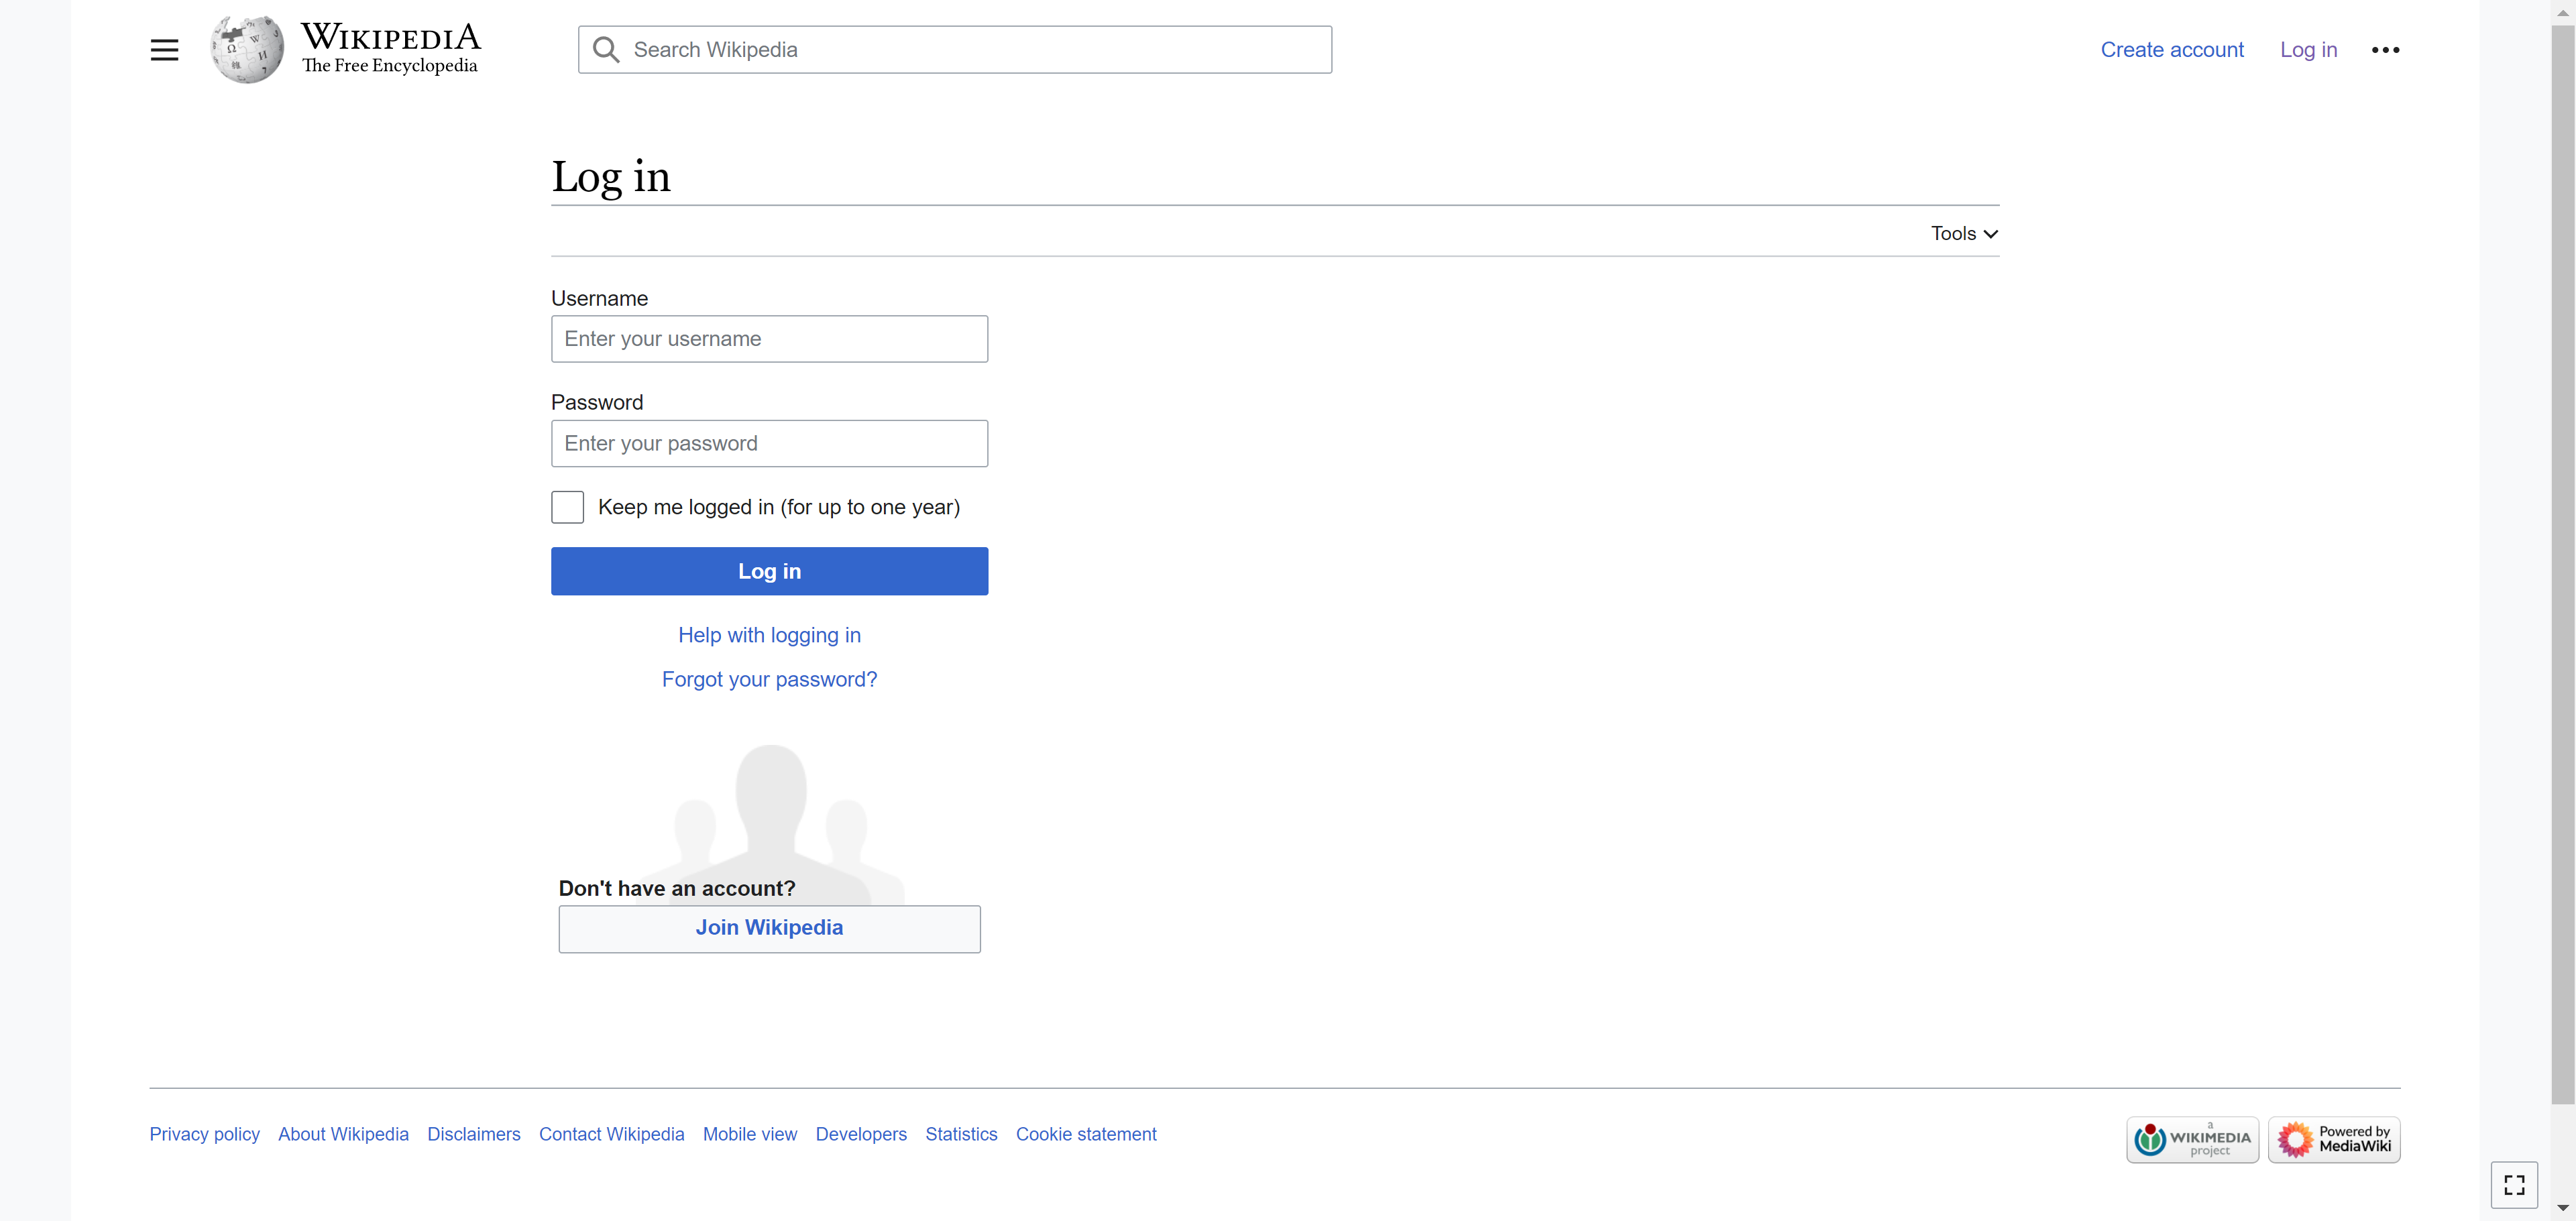login_button: (552, 547, 989, 595)
login_form: (540, 281, 997, 605)
